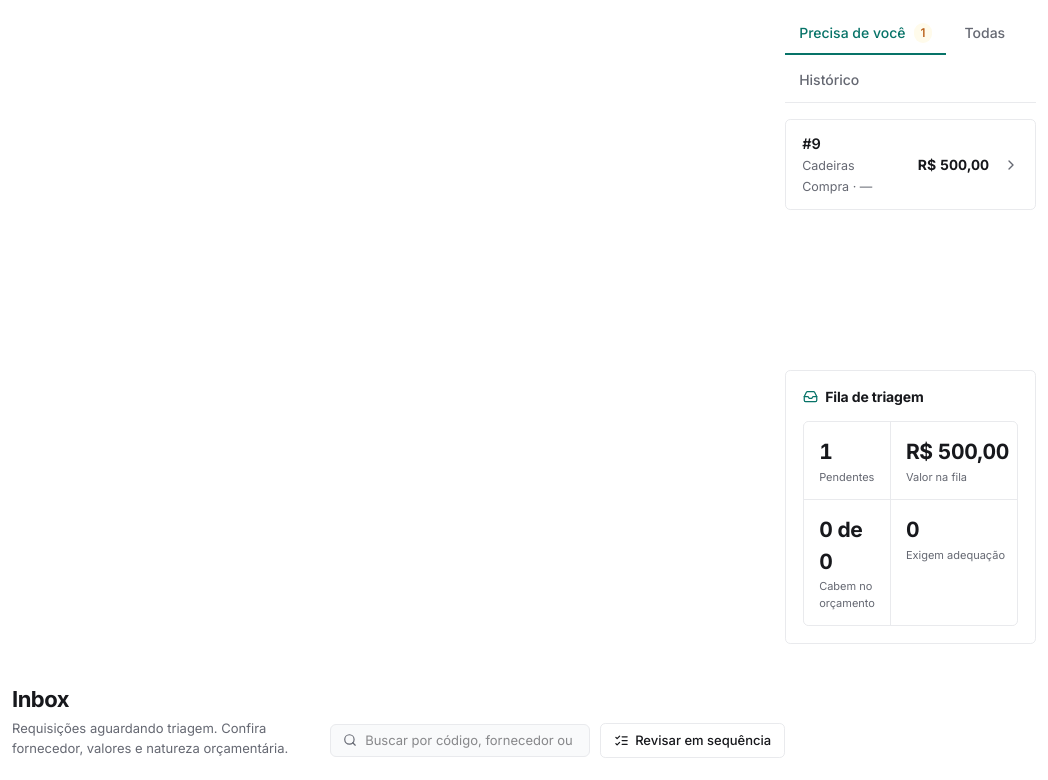
Test: RequisitionTriageInbox › "Todas" coloca Triage na seção "Aguardando você" (perspectiva da Controladoria)
The width and height of the screenshot is (1048, 780).
Click the tab "Todas".
click(985, 34)  # box [950,12,1019,55]
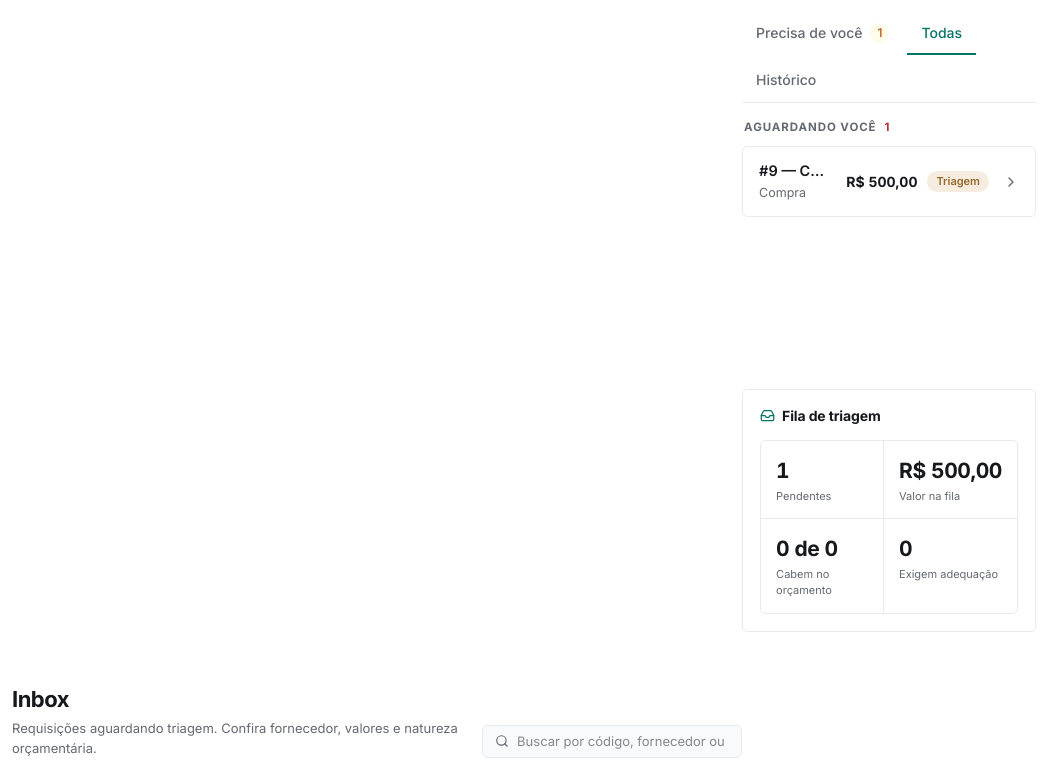
Check: the text "Aguardando você" is shown, box [744,120,876,134]
Check: the text "#9 — Cadeiras" is shown, box [759,160,832,182]
